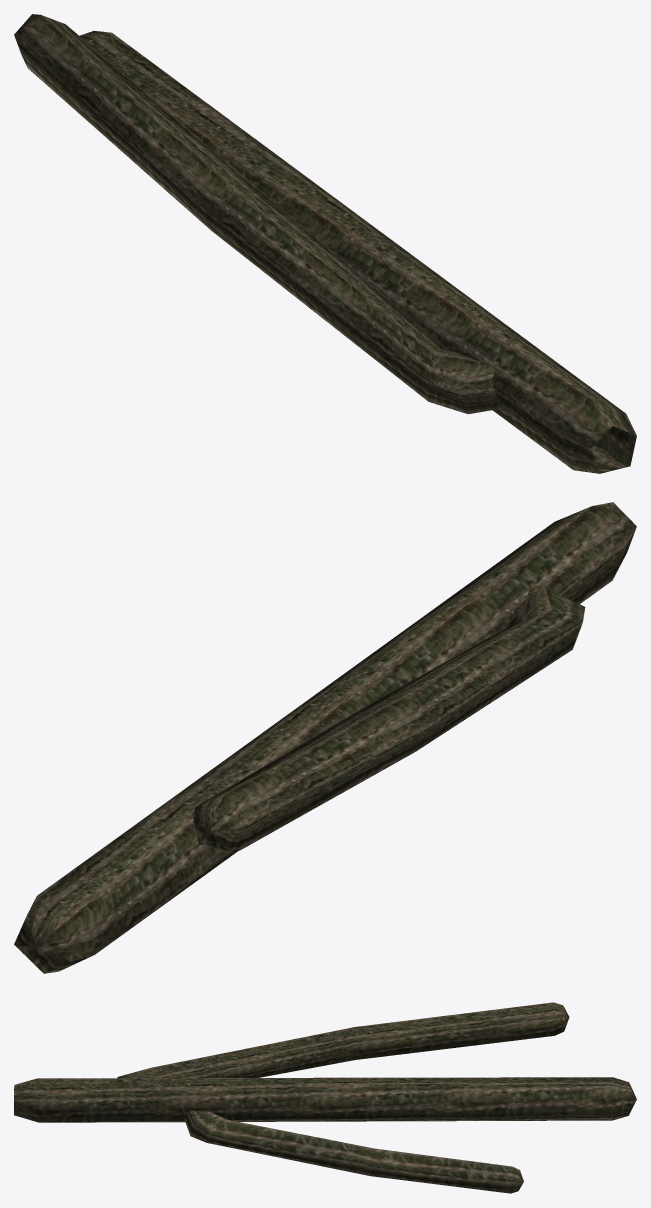
Rendered from MEP_Cactus_C_06.fbx.
3 renders of one model, top to bottom at view 1: azimuth 30°, elevation 25°; view 2: azimuth 150°, elevation 25°; view 3: azimuth 270°, elevation 25°, orthographic. The views are drawn at different scales.
Visible parts, largest first — view 1: MEP_Cactus_C_06; view 2: MEP_Cactus_C_06; view 3: MEP_Cactus_C_06.
Part boxes in pixels (box(x1,y1,x2,y2)): MEP_Cactus_C_06: box(14, 14, 636, 473); MEP_Cactus_C_06: box(14, 502, 636, 973); MEP_Cactus_C_06: box(14, 1002, 636, 1193).
Size of the model in its own units: 0.9694 by 0.9193 by 3.84.
1 material, 1 textured.
